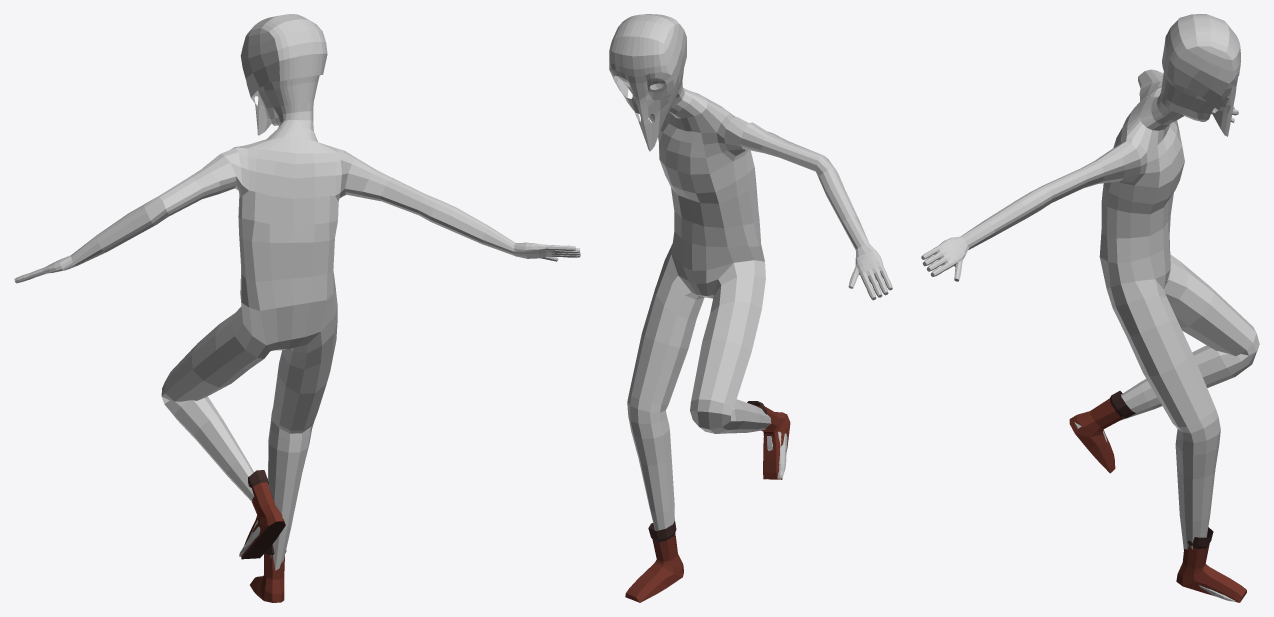
Rendered from saltoadelante_000125.obj.
3 views of the same model, side by side, from view 1: azimuth 30°, elevation 25°; view 2: azimuth 150°, elevation 25°; view 3: azimuth 270°, elevation 25° (orthographic). The views are drawn at different scales.
Visible parts, largest first — view 1: Plane.002_Plane.001, Plane.004, Plane.003; view 2: Plane.002_Plane.001, Plane.003, Plane.004; view 3: Plane.002_Plane.001, Plane.004, Plane.003.
Boxes of the visible parts, bbox=[...] form: Plane.002_Plane.001: bbox=[14, 14, 580, 570]; Plane.004: bbox=[241, 470, 285, 559]; Plane.003: bbox=[250, 544, 286, 602]; Plane.002_Plane.001: bbox=[609, 14, 892, 534]; Plane.003: bbox=[625, 521, 683, 602]; Plane.004: bbox=[747, 401, 790, 479]; Plane.002_Plane.001: bbox=[921, 14, 1259, 602]; Plane.004: bbox=[1069, 391, 1135, 473]; Plane.003: bbox=[1176, 527, 1246, 602].
Bounding box in the file's own units: 5.18 × 6.84 × 3.61.
